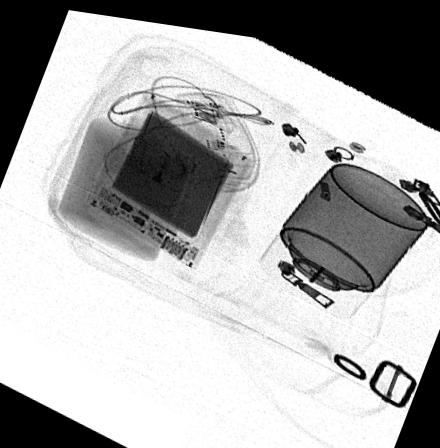Lighter: (134, 137, 194, 222)
Powerbank: (86, 85, 255, 264)
Sprayer: (258, 151, 430, 307)
